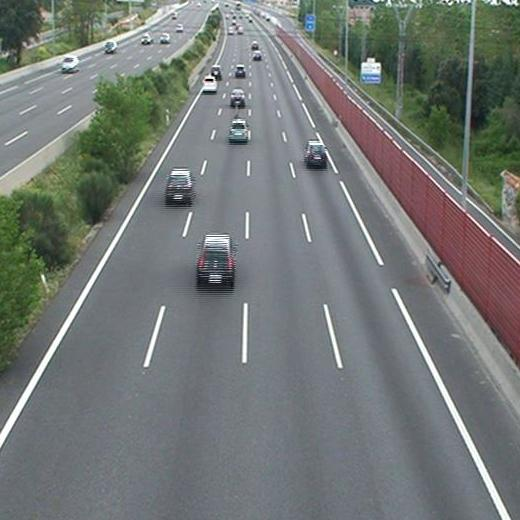car: (197, 237, 234, 282), (166, 170, 192, 202), (305, 141, 326, 166), (229, 120, 249, 140), (229, 89, 245, 106), (202, 77, 218, 92), (235, 66, 245, 76), (211, 66, 221, 74), (253, 51, 261, 58)
